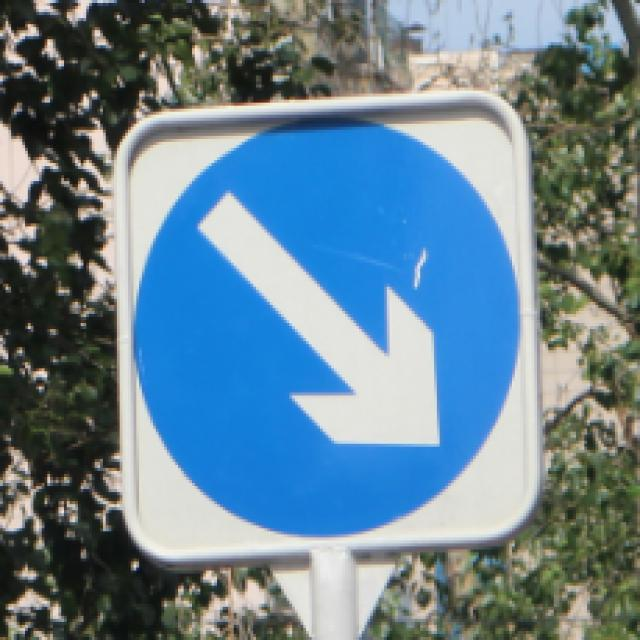Right: (128, 108, 532, 538)
